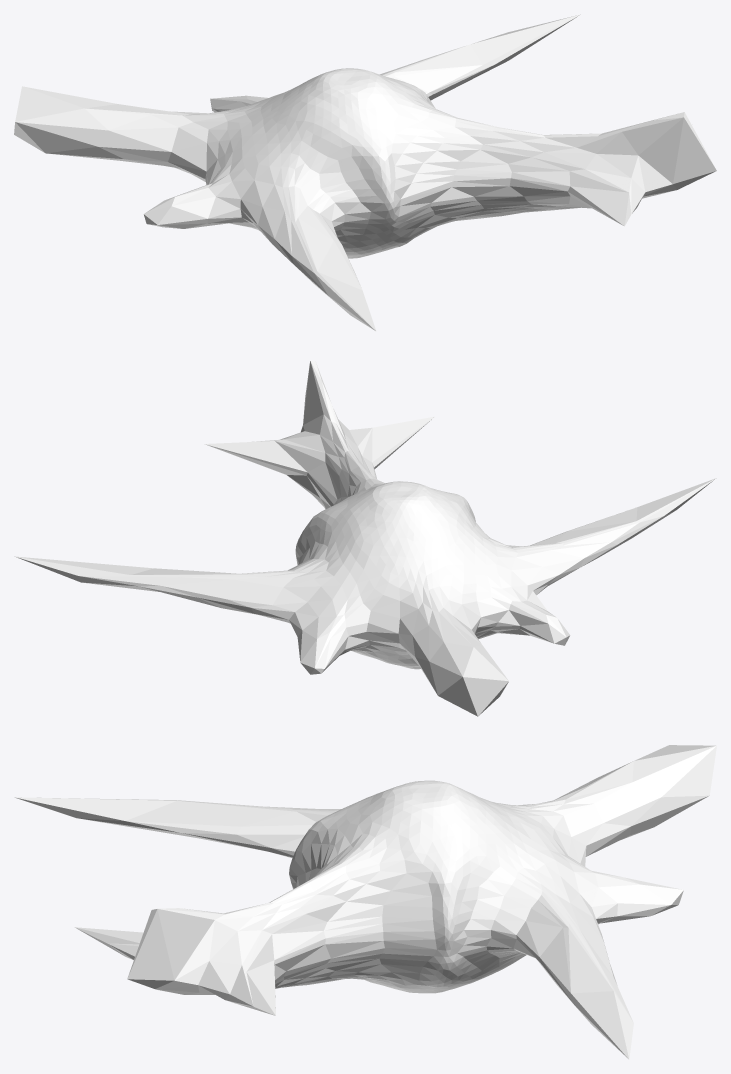
The model's file is plane_rotZ45[0.3,0.0,0.3]s1[-1.7,0.0,-1.7]_00130.obj.
3 views of the same model, one above another, from view 1: azimuth 30°, elevation 25°; view 2: azimuth 150°, elevation 25°; view 3: azimuth 270°, elevation 25° (orthographic). The views are drawn at different scales.
Size of the model in its own units: 1.3 by 0.3901 by 1.29.
Materials: 1 (1 with a texture image).
